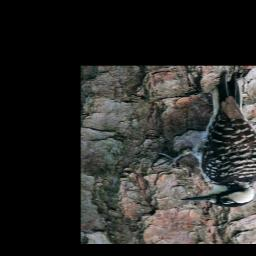Woodpecker: (146, 71, 256, 208)
